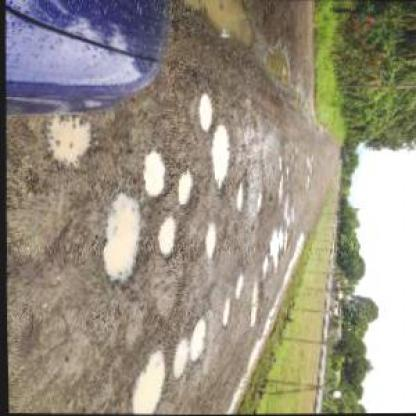pothole: (97, 191, 146, 286), (42, 112, 94, 168), (140, 151, 169, 200), (211, 124, 229, 192), (184, 316, 208, 363), (172, 169, 194, 208), (156, 216, 178, 255), (168, 340, 187, 381), (196, 93, 214, 133), (248, 281, 264, 326), (201, 224, 216, 260), (268, 229, 280, 272), (233, 177, 245, 215), (233, 270, 244, 301), (219, 300, 230, 327), (259, 254, 269, 280), (254, 190, 263, 214)
